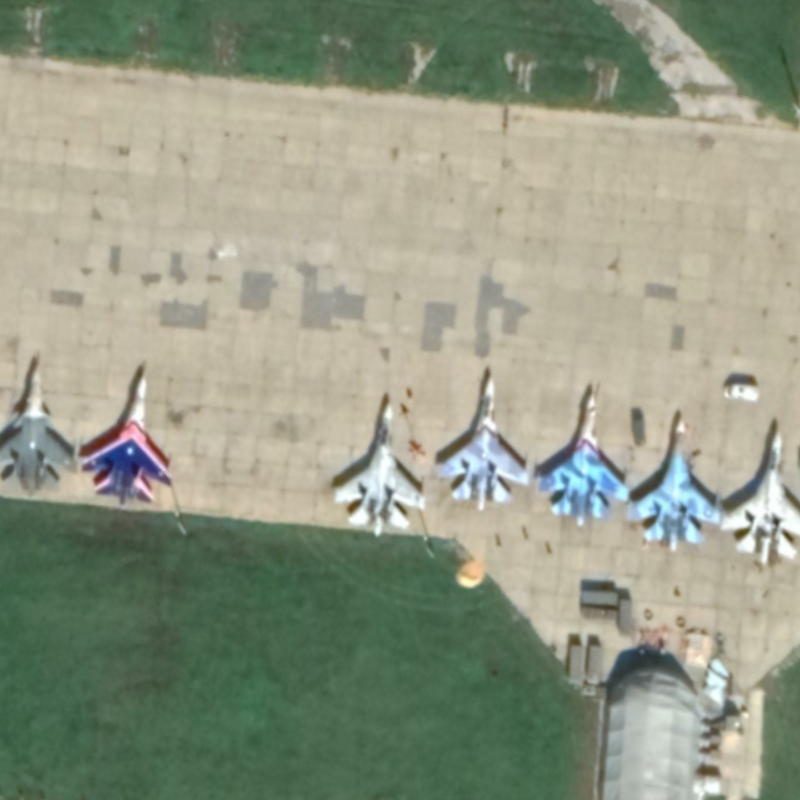A1: (433, 372, 532, 513), (534, 388, 631, 529), (627, 416, 724, 554), (332, 401, 428, 539), (78, 373, 175, 509), (718, 428, 800, 568)
A19: (1, 364, 79, 497)
